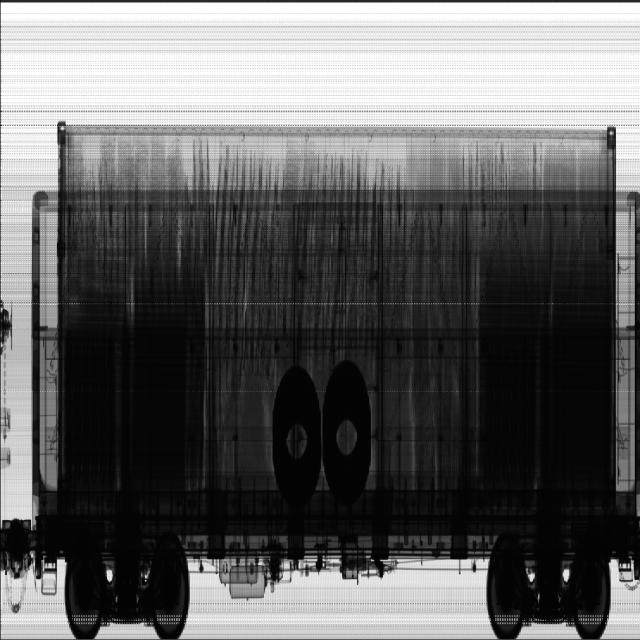shoes: (66, 138, 184, 218), (462, 146, 544, 201), (279, 143, 316, 222)
